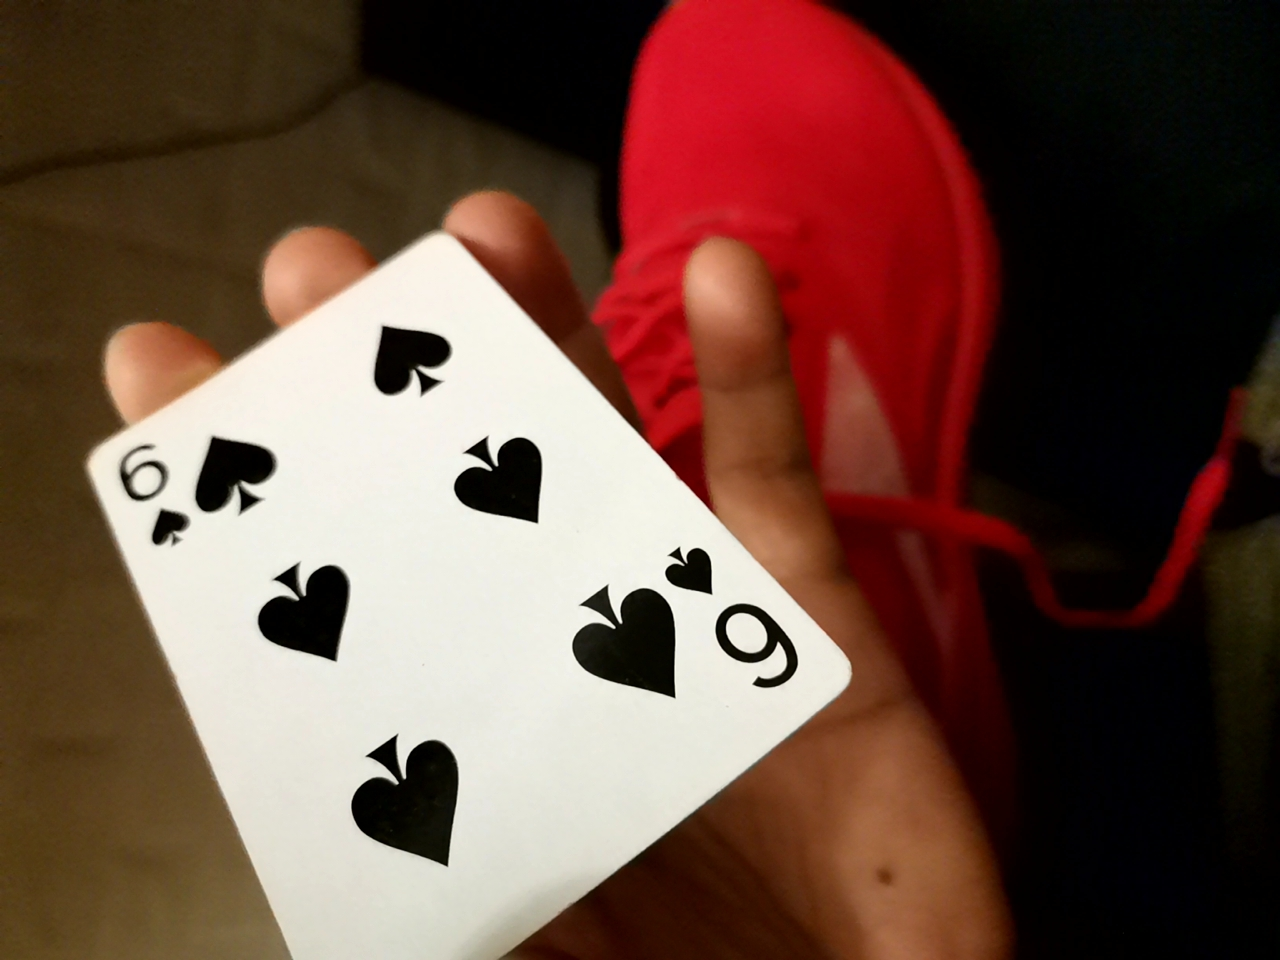ht 6: (78, 214, 881, 960)
